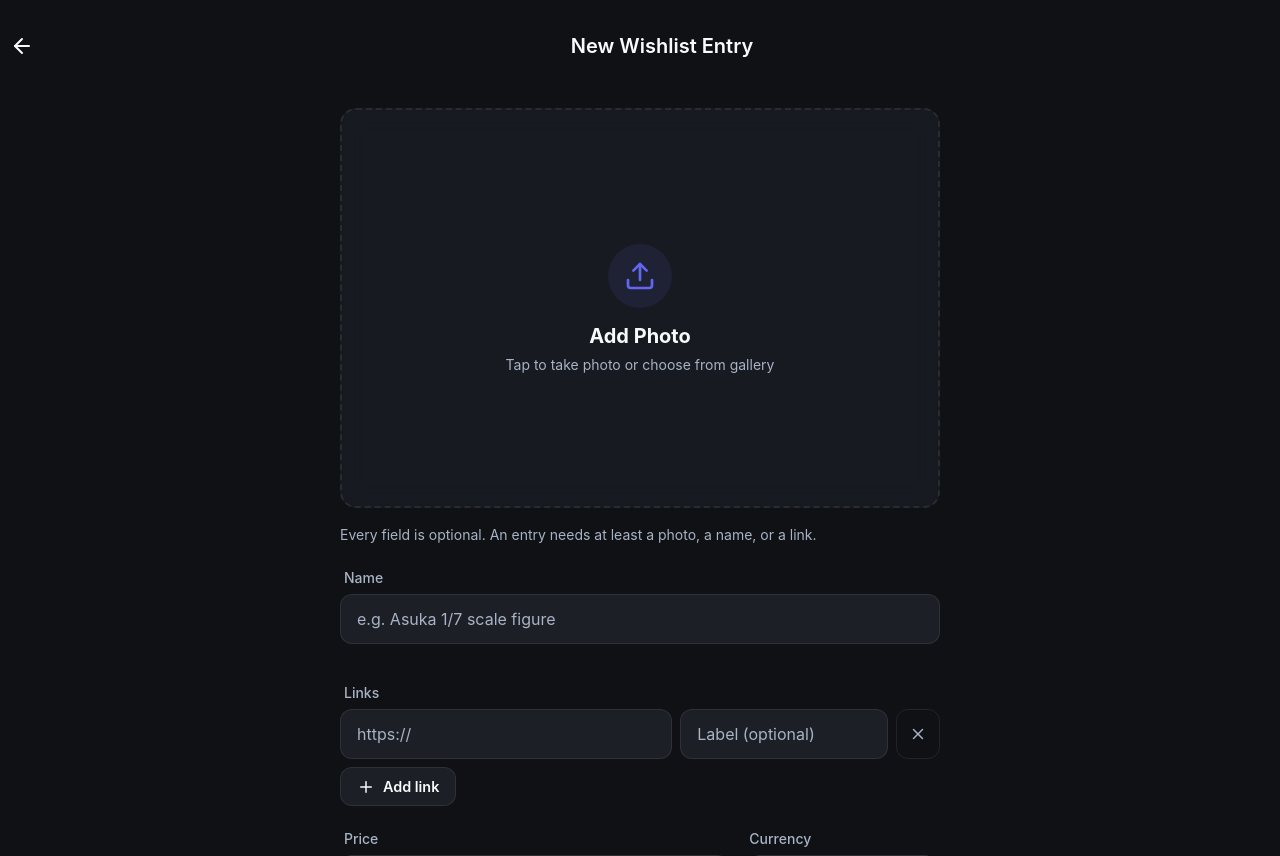
Test case: AddEditWishlistEntry › names the link that is not a web address instead of saving
This screenshot has width=1280, height=856.
Type "Asuka figure" into the field labelled "Name" at (640, 619), box x1=340 y1=594 x2=940 y2=644
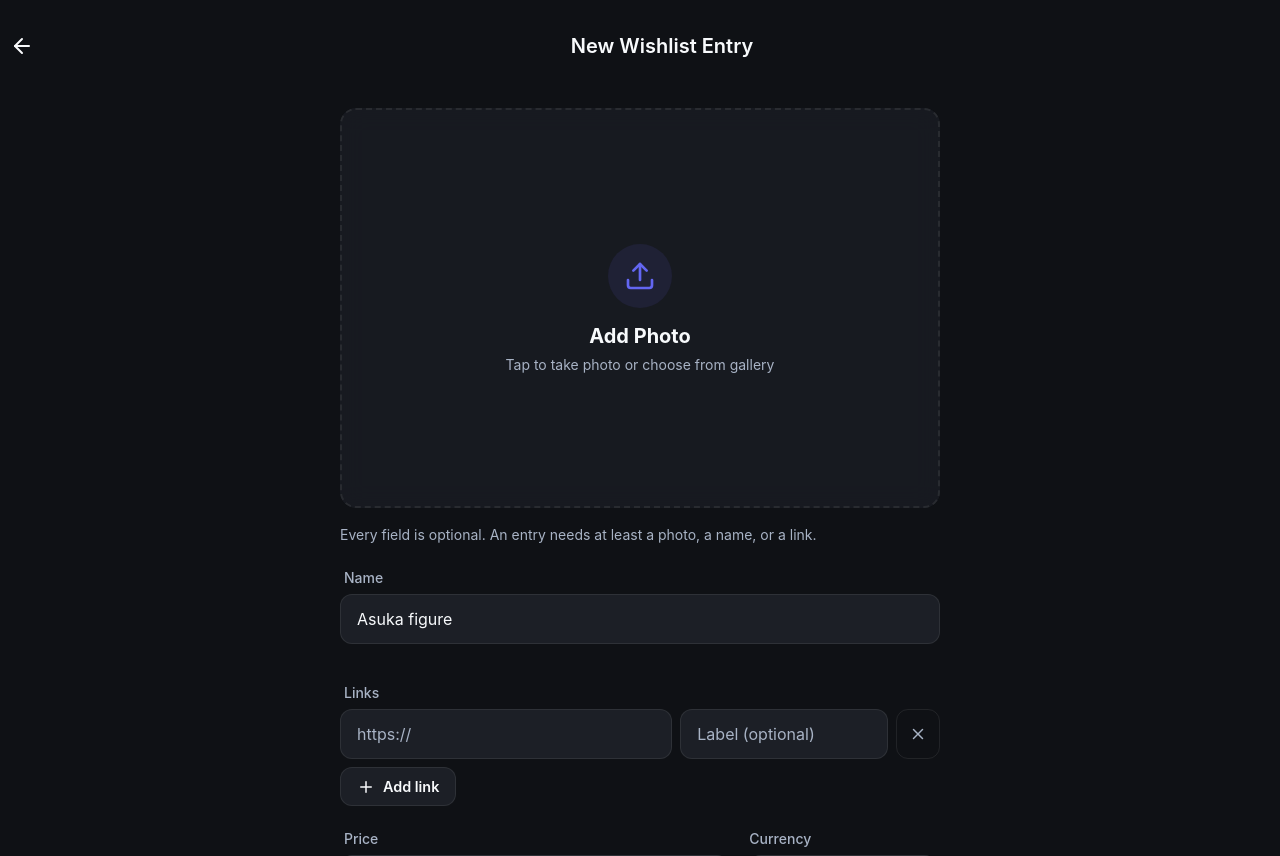
Type "javascript:alert(1)" into the field named "Link 1 address" at (506, 734), box x1=340 y1=709 x2=672 y2=759
(page scrolled)
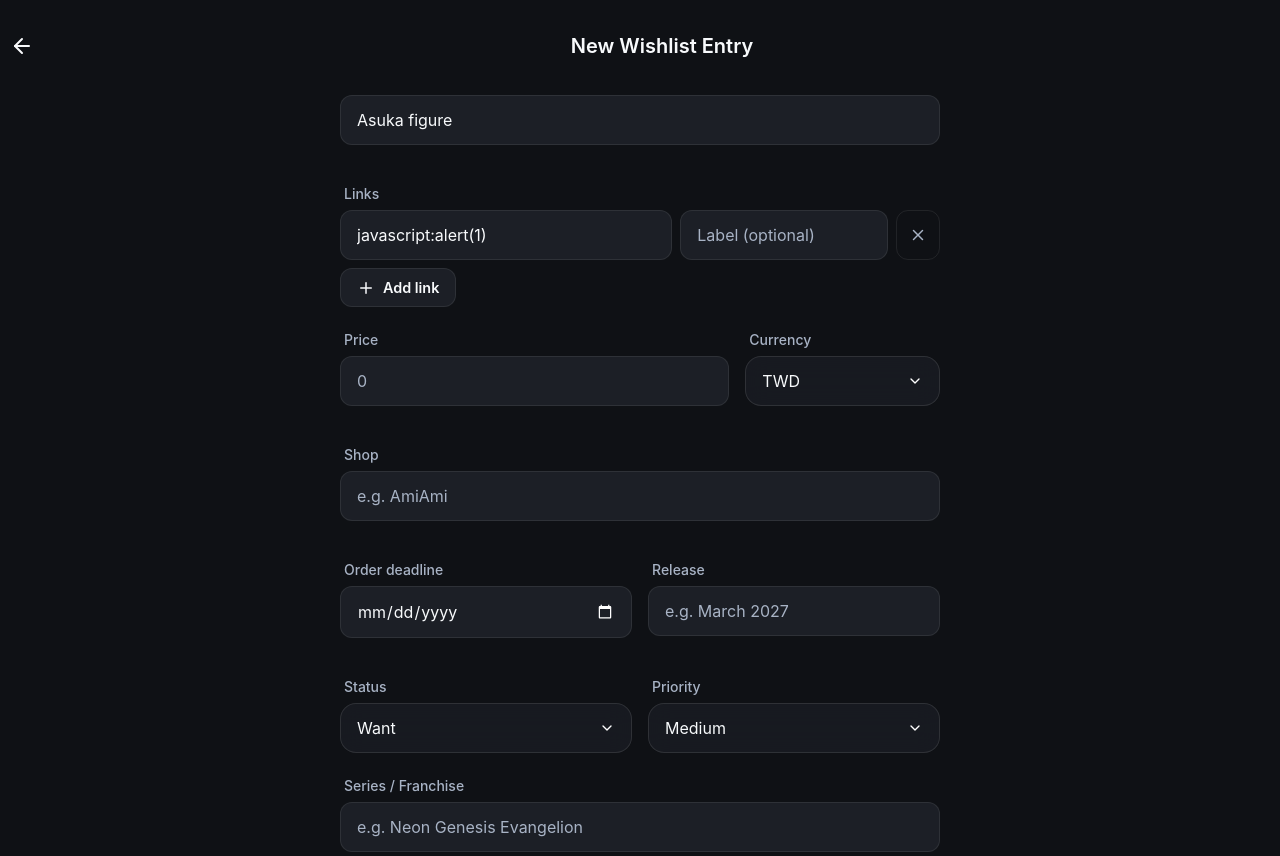
Submit the form
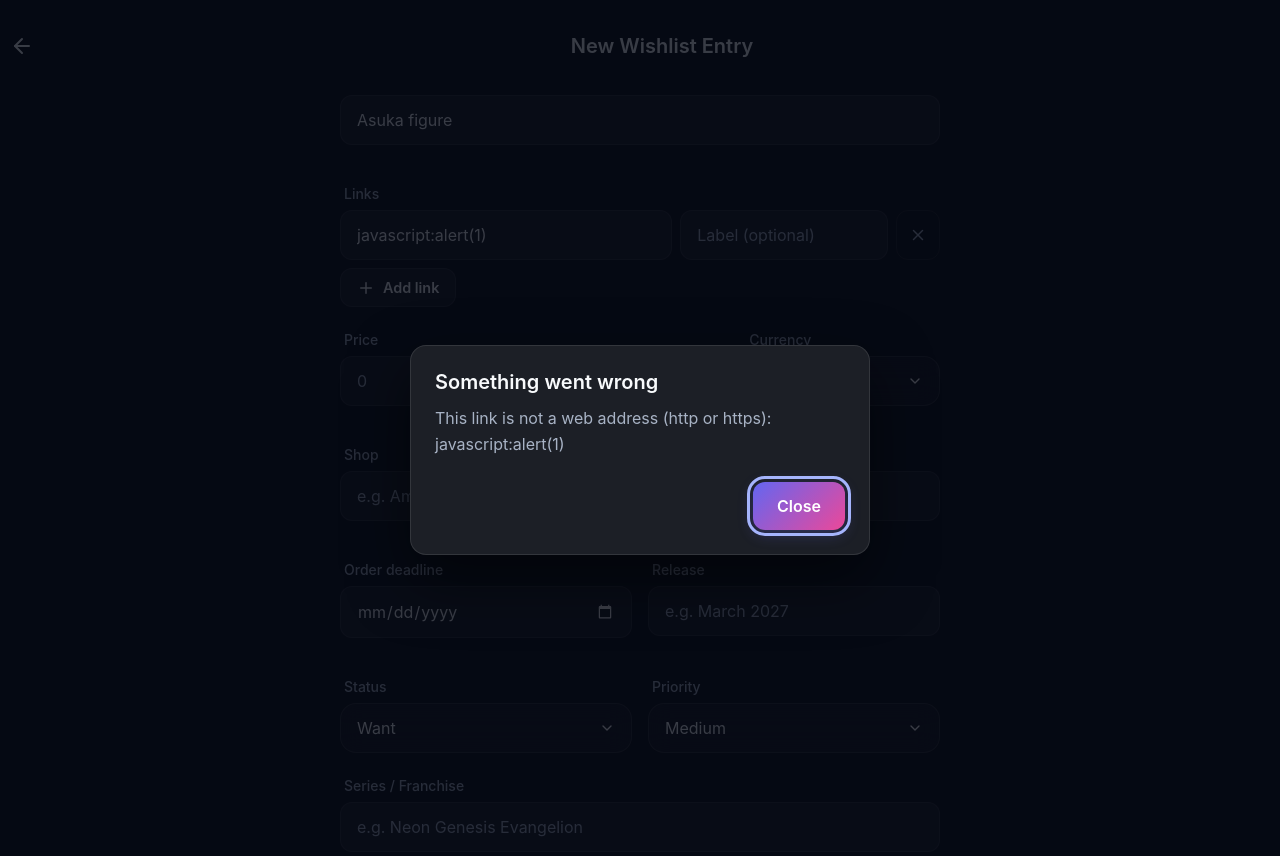
Expected: the dialog "Something went wrong" shows "This link is not a web address (http or https): javascript:alert(1)", x1=435 y1=408 x2=772 y2=454
